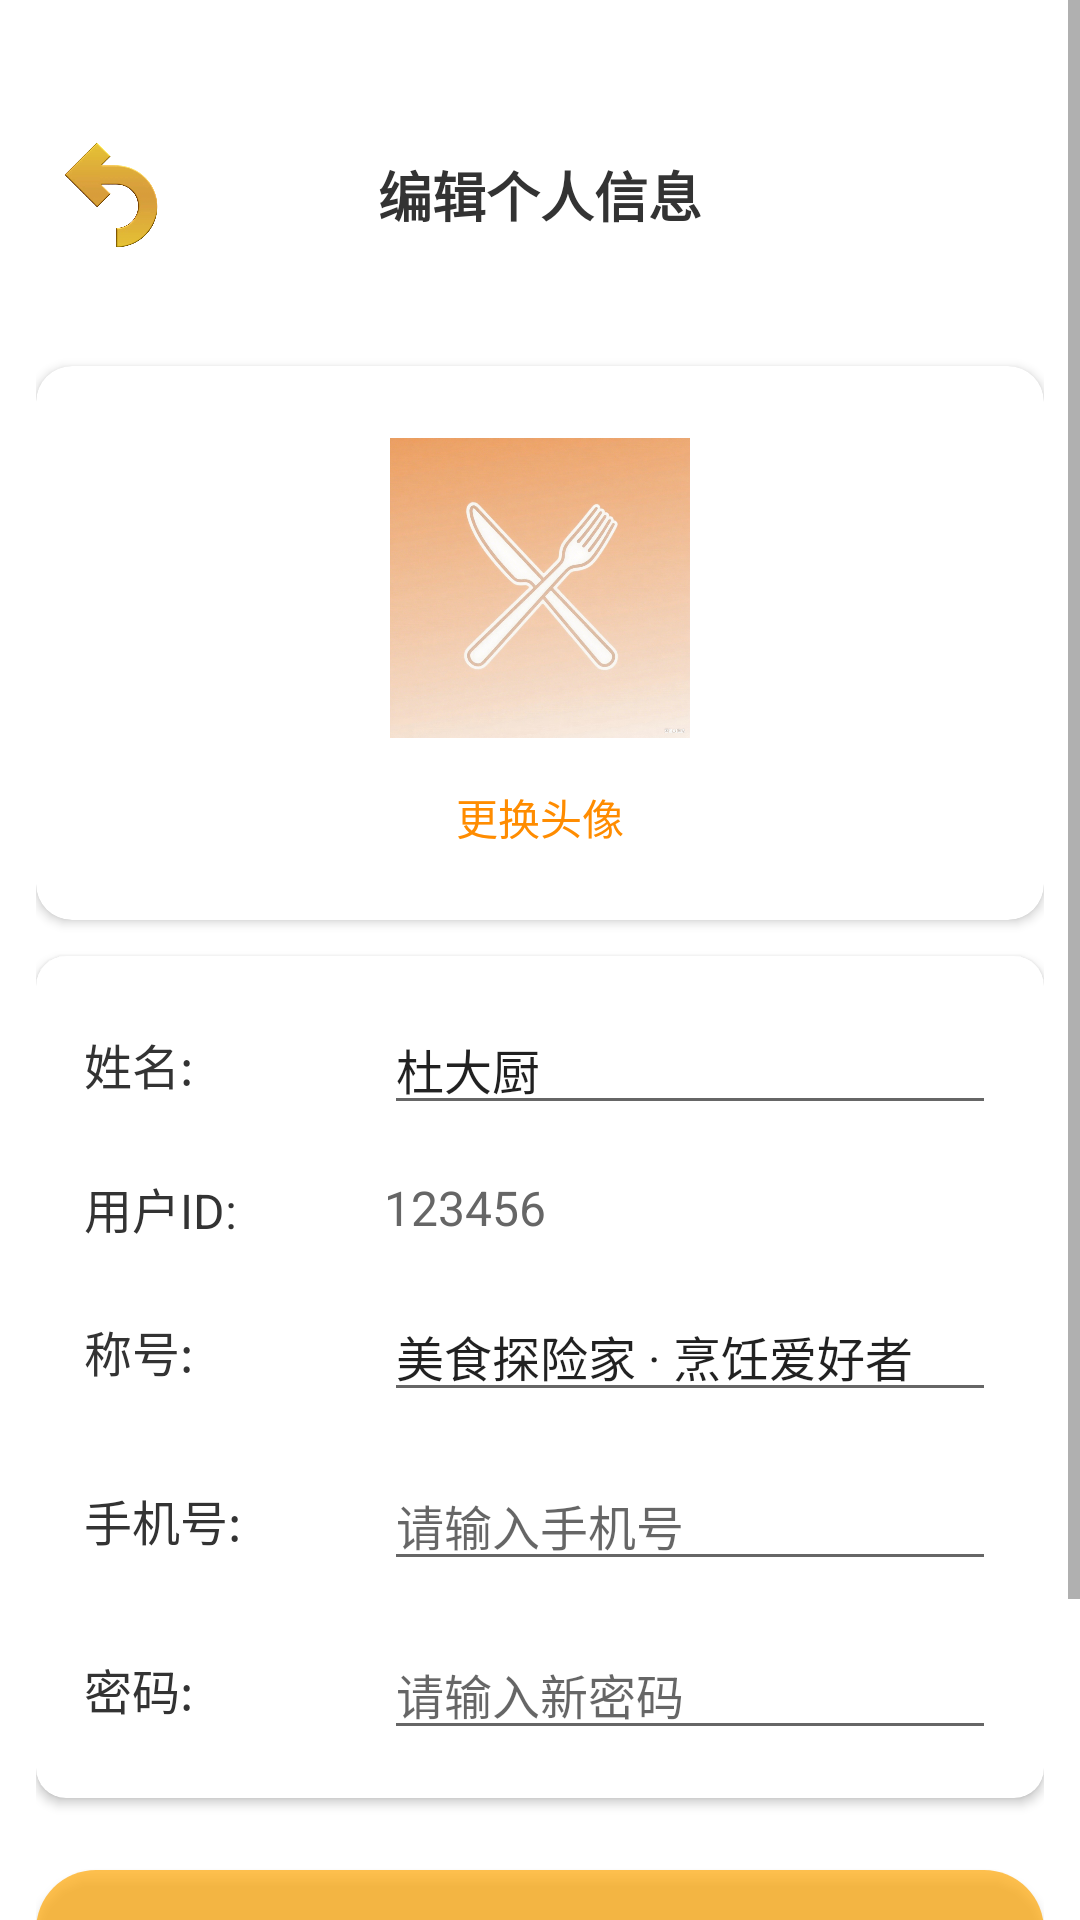

Icon bounding boxes for this 1080x1920 phone screenshot, format (x1, y1, x2, y2):
返回: (65, 143, 158, 247)
